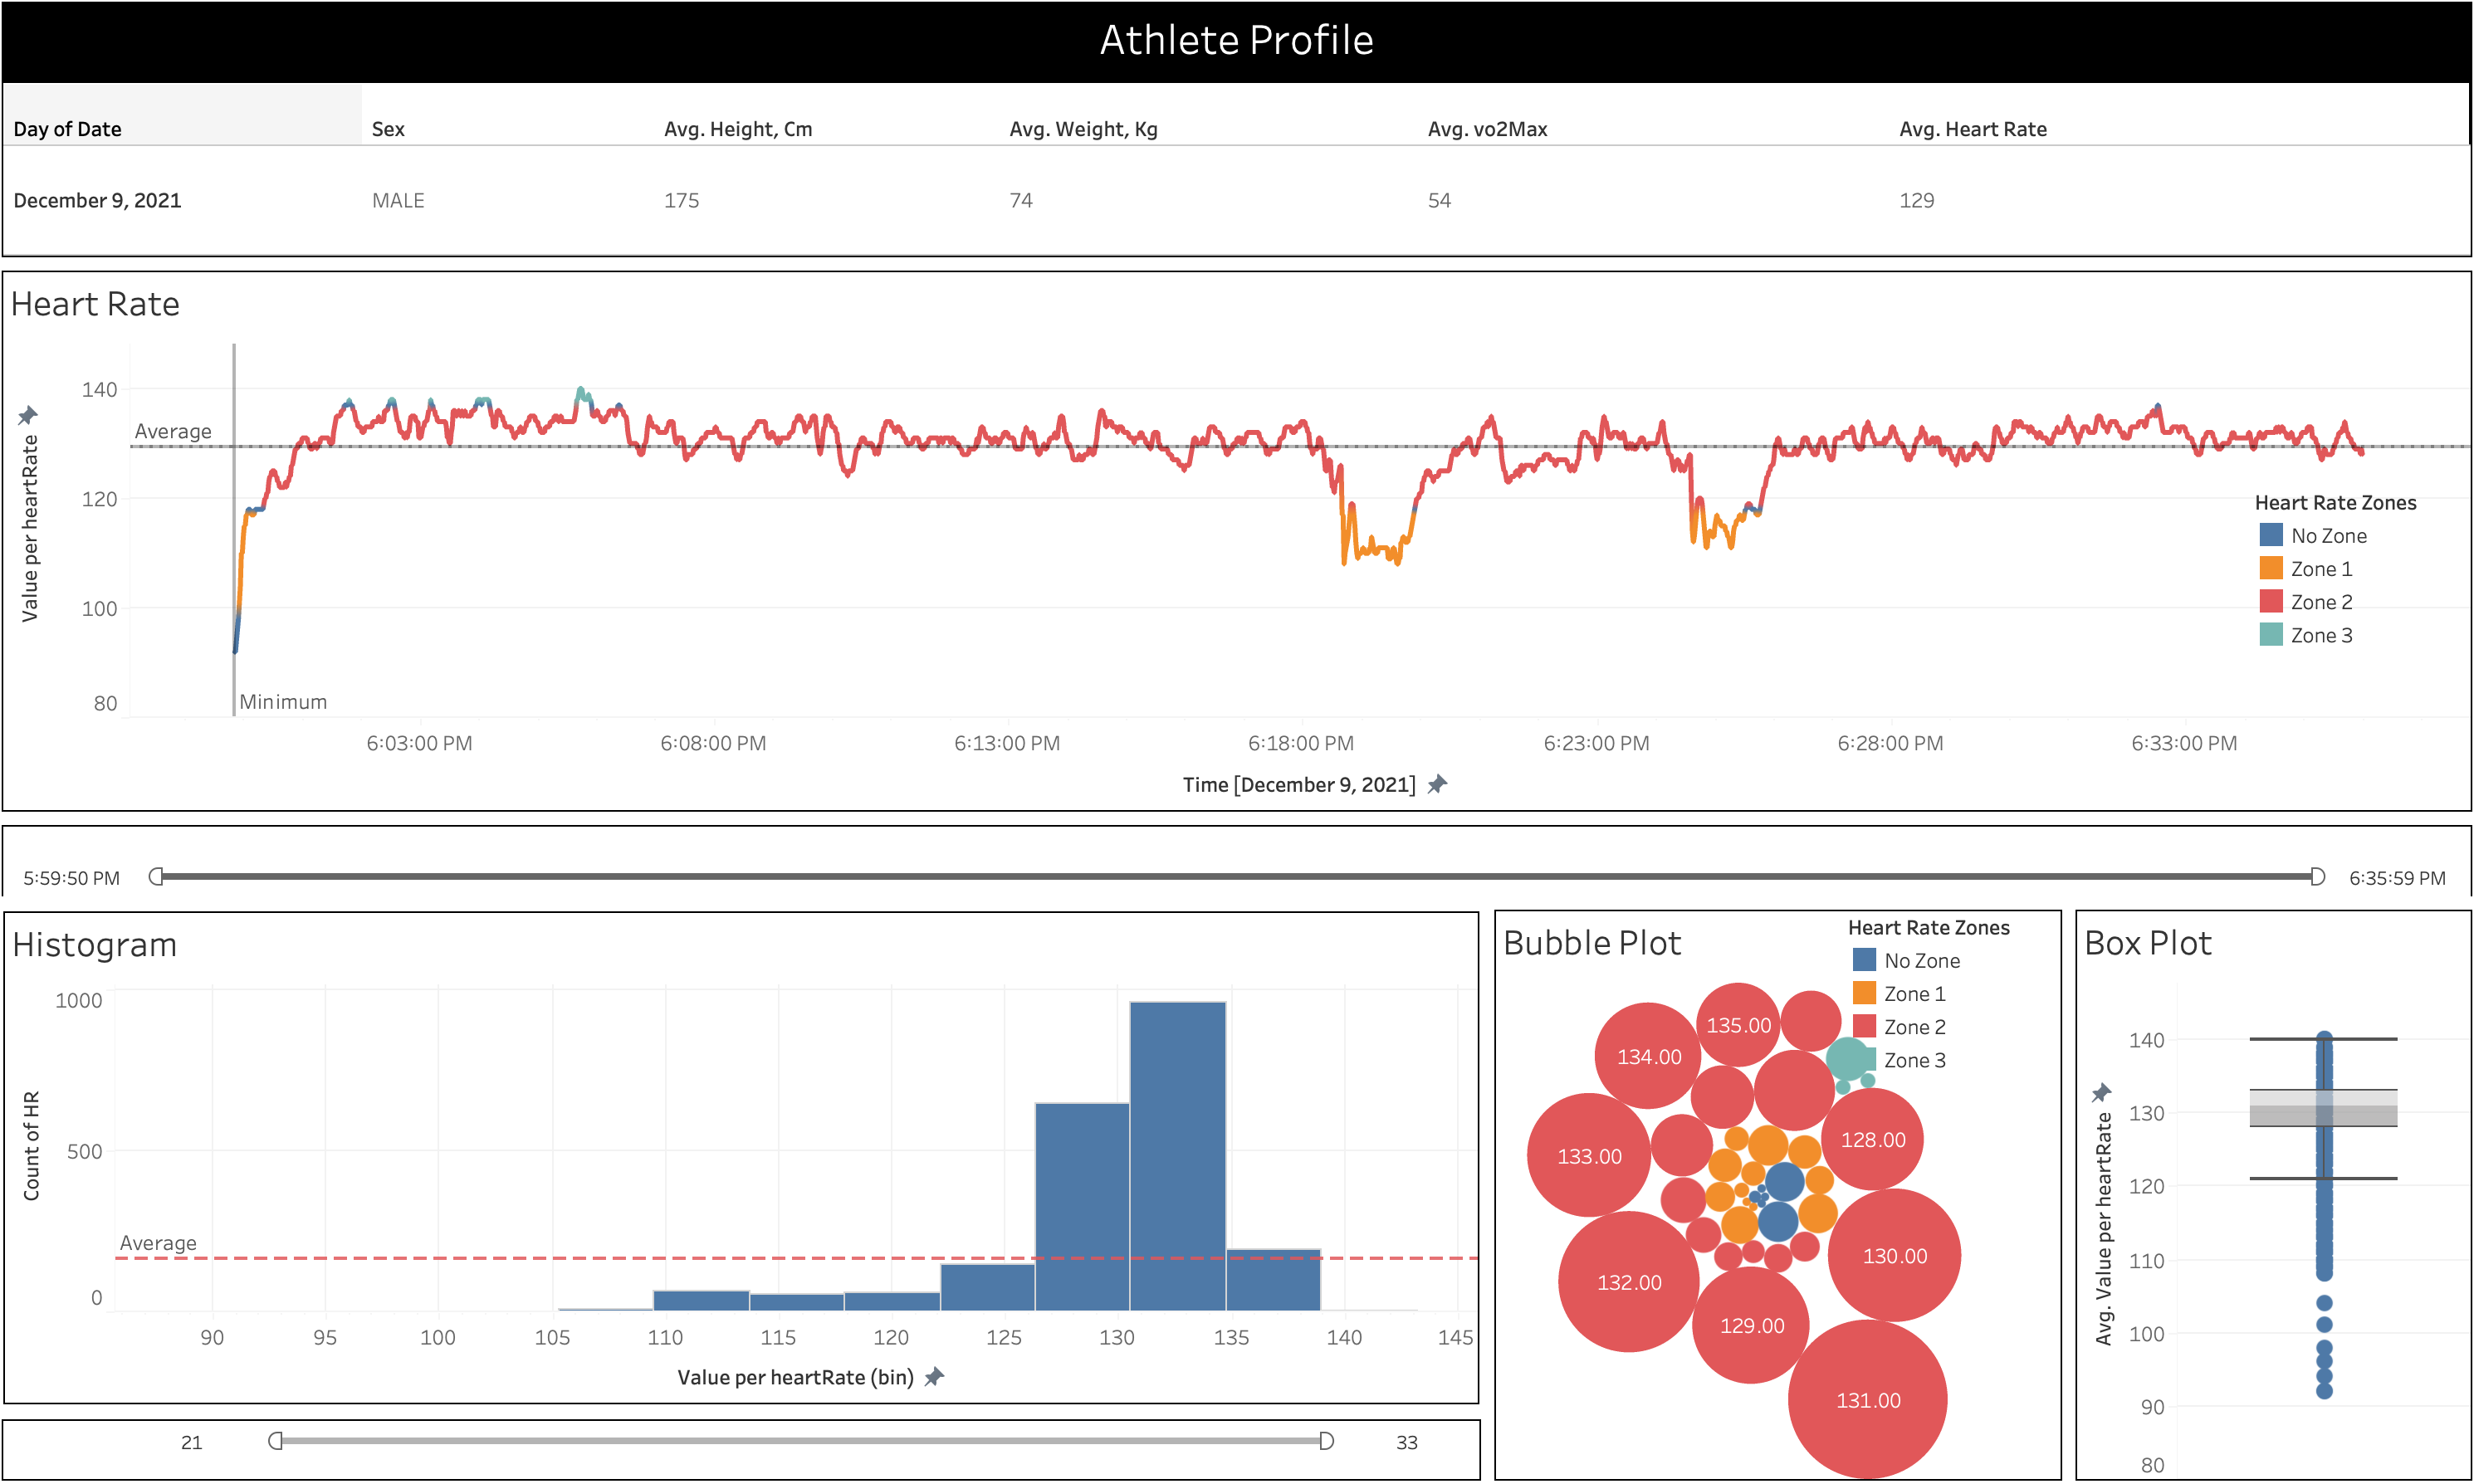

Layout of this report page (visuals, bound fields, positions):
{"tool":"tableau","page":{"name":"Athlete Profile","canvas":[1000,1000],"units":"permille","ordinal":0},"visuals":[{"type":"worksheet","title":"Stats","mark":"Automatic","rows":["dateTime (physicalInformationSnapshot)","sex","height, cm","weight, kg","vo2Max","averageHeartRate"],"cols":["dateTime (physicalInformationSnapshot)"],"box":[6.2,12.1,987.6,175.7]},{"type":"worksheet","title":"HeartRate","mark":"Automatic","rows":["Value per heartRate"],"cols":["dateTime (exercises.samples.heartRate)"],"box":[6.2,187.8,987.6,362.2]},{"type":"filter","title":"HeartRate","param":"[federated.0x8sa6v1wm5ftg181k8q01ubbywy].[none:dateTime (exercises.samples.heart","box":[6.2,550,987.6,56.1]},{"type":"worksheet","title":"Histogram","mark":"Automatic","rows":["Value per heartRate"],"cols":["Value per heartRate (bin)"],"box":[6.2,606.1,593.5,332.9]},{"type":"worksheet","title":"Bubble Plots","mark":"Circle","box":[599.7,606.1,231.2,381.8]},{"type":"worksheet","title":"Box Plot","mark":"Circle","rows":["Value per heartRate"],"box":[830.9,606.1,162.9,381.8]},{"type":"legend","title":"Bubble Plots","param":"[federated.0x8sa6v1wm5ftg181k8q01ubbywy].[none:Calculation_1100637559127814150:n","box":[743.2,613.6,83.8,153]},{"type":"filter","title":"Histogram","param":"[federated.0x8sa6v1wm5ftg181k8q01ubbywy].[none:Value per heartRate (bin):qk]","box":[6.2,939,593.5,48.9]}]}

Visuals, with their boxes on the dashboard's canvas, which has no fixed pixel size, in thousandths of its width and height (x1, y1, x2, y2). These are canvas units, not pixel positions in the 2474x1484 screenshot, which may show the page scaled, cropped or inside an application window:
"Stats" worksheet: Rect(6, 12, 994, 188)
"HeartRate" worksheet: Rect(6, 188, 994, 550)
"HeartRate" filter: Rect(6, 550, 994, 606)
"Histogram" worksheet: Rect(6, 606, 600, 939)
"Bubble Plots" worksheet (Circle marks): Rect(600, 606, 831, 988)
"Box Plot" worksheet (Circle marks): Rect(831, 606, 994, 988)
"Bubble Plots" legend: Rect(743, 614, 827, 767)
"Histogram" filter: Rect(6, 939, 600, 988)
